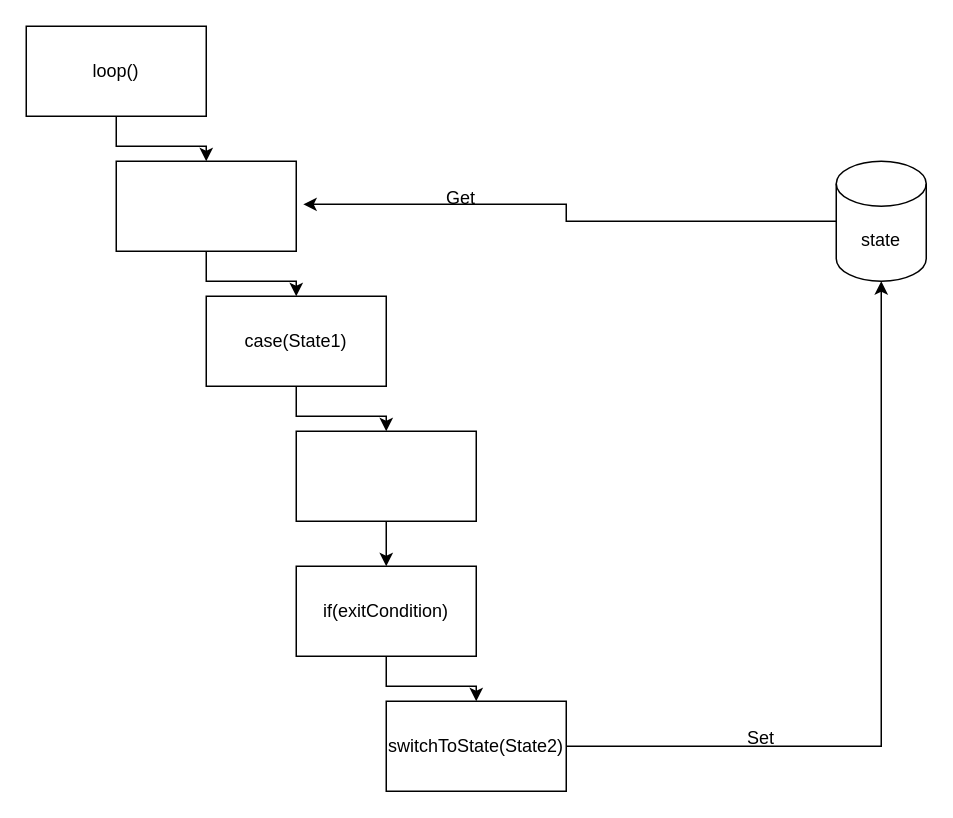
The diagram is 953 pixels wide and 818 high, and some of its shapes have lost their labels. The shapes that lost their labels are listed below. From the top down, each one's centre as x and y in pixels, then its label:
At point 205,205: "switch(state)".
At point 385,475: "stuffToAlwaysRun()".
